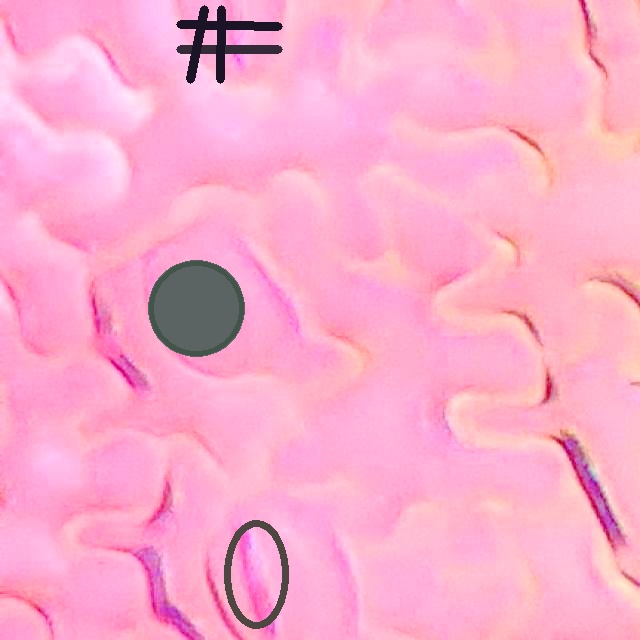open: (148, 259, 245, 356), (176, 5, 282, 83), (224, 520, 288, 628)
